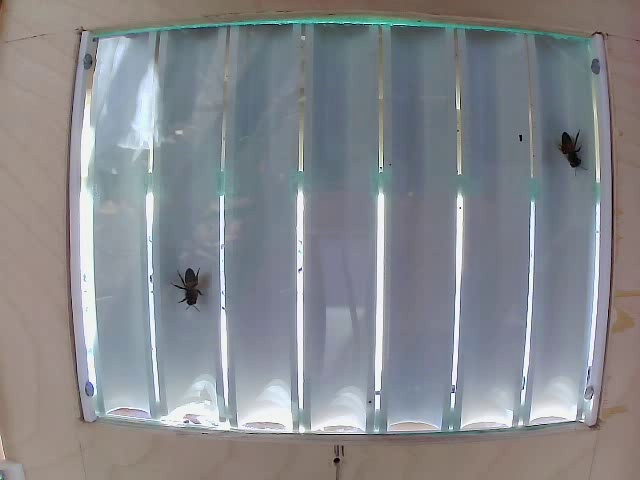bee: (173, 269, 222, 319), (556, 124, 592, 181)
